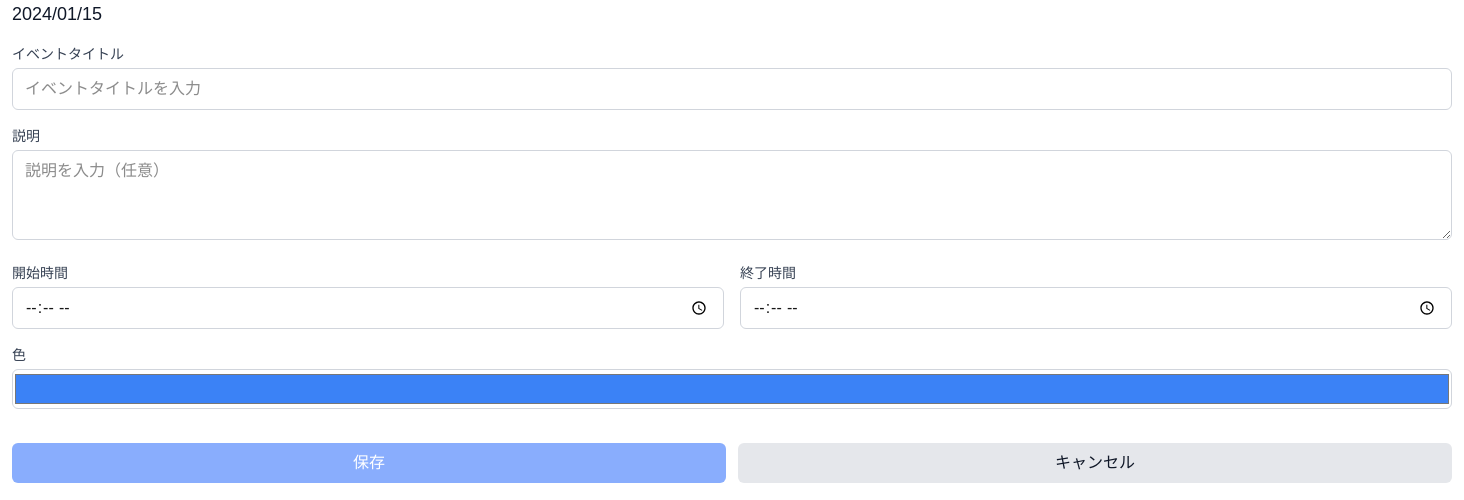
Test: EventForm › イベント作成 › タイトルを入力すると保存ボタンが有効になる
The width and height of the screenshot is (1464, 500).
In the field labelled "イベントタイトル": (732, 89) [12,68,1452,110], type "テストイベント"
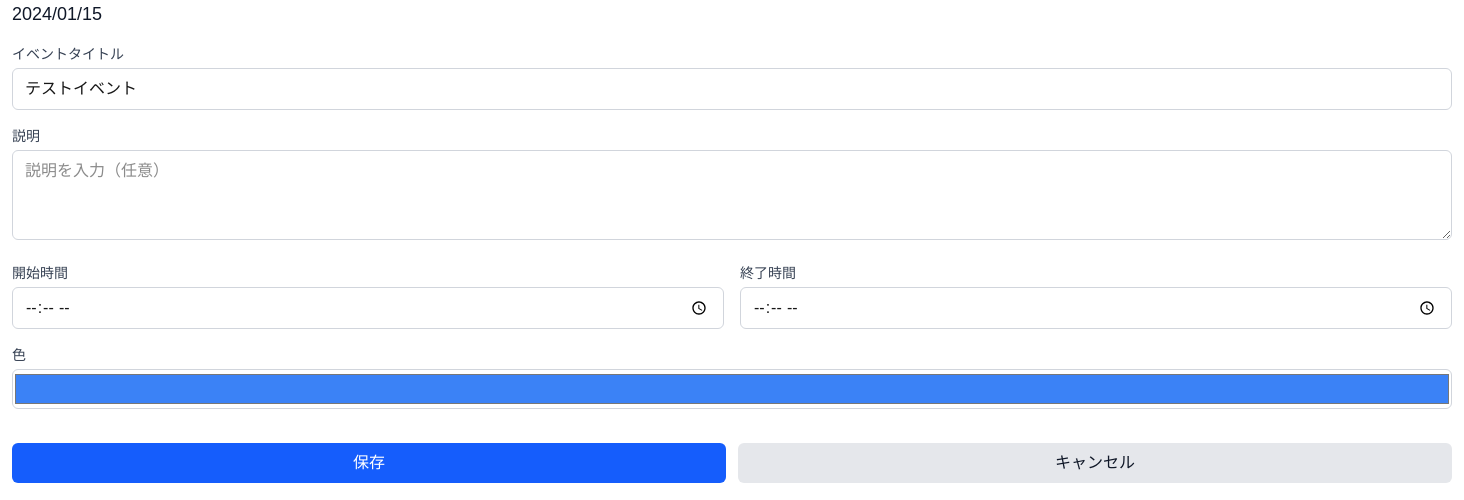
Expected: the button "保存" is enabled, [12,443,726,483]
